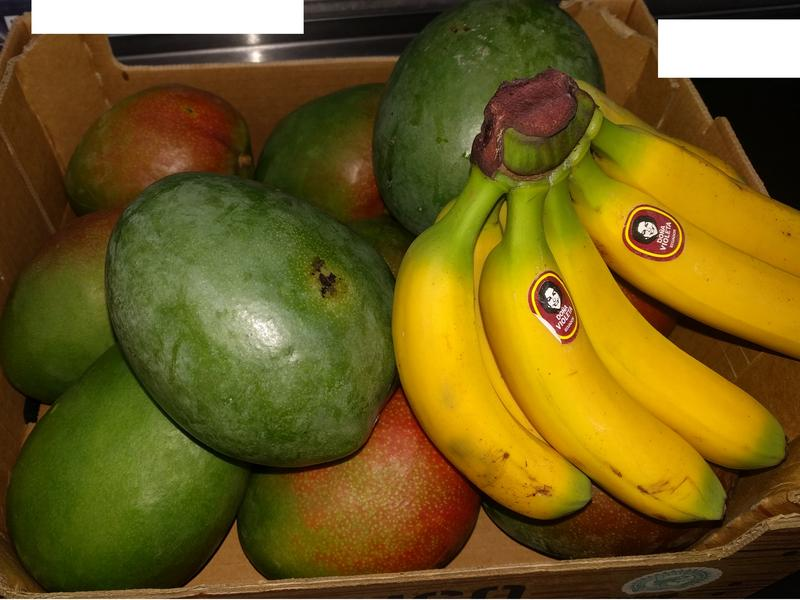banana: (383, 63, 800, 523)
